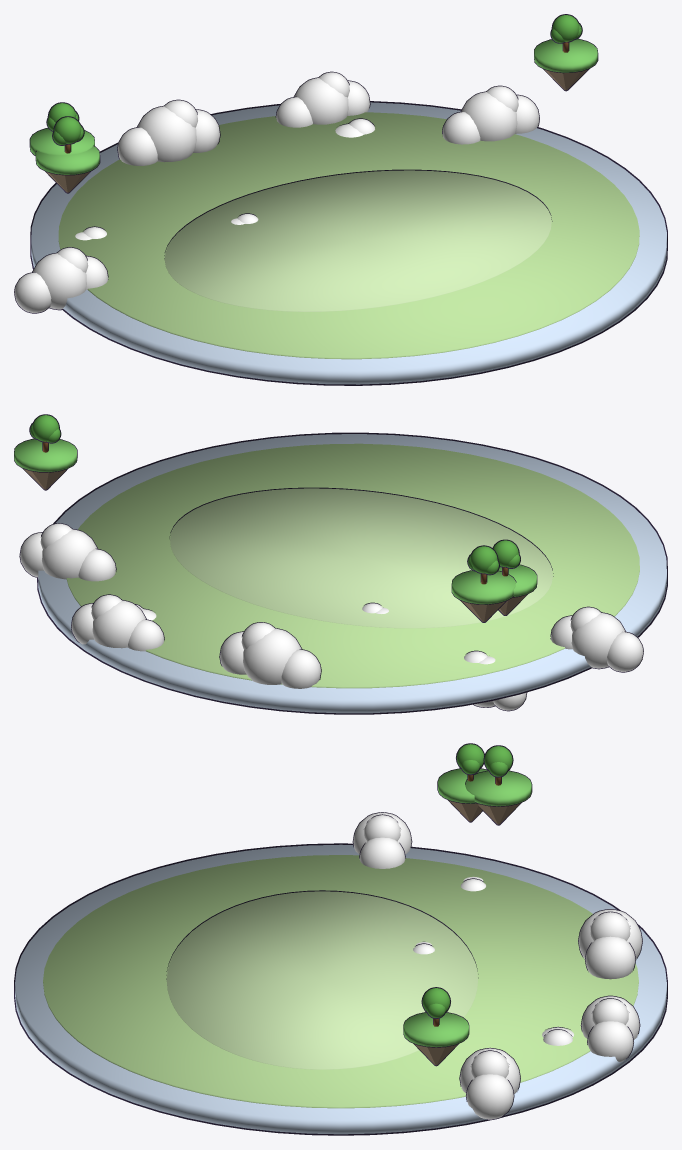
The model's file is sky.glb.
3 renders of one model, top to bottom at view 1: azimuth 30°, elevation 25°; view 2: azimuth 150°, elevation 25°; view 3: azimuth 270°, elevation 25°, orthographic. The views are drawn at different scales.
Visible parts, largest first — view 1: ground, floor, skirt, cloud.020, cloud.004, cloud.024, grass.002, cloud, grass.001, cloud.021, cloud.025, grass (+9 smaller); view 2: ground, floor, skirt, cloud.020, cloud.024, cloud.004, grass, grass.002, cloud, cloud.021, cloud.025, cloud.005 (+14 smaller); view 3: ground, floor, skirt, grass.002, grass, cloud.022, cloud.006, cloud.002, cloud.026, cloud.020, grass.001, cloud.023 (+6 smaller).
Boxes of the visible parts, x1,y1,x2,y2 form: ground: (58, 112, 639, 359); floor: (164, 169, 552, 311); skirt: (30, 101, 667, 385); cloud.020: (137, 105, 196, 162); cloud.004: (460, 91, 517, 141); cloud.024: (32, 252, 86, 310); grass.002: (534, 38, 598, 73); cloud: (293, 77, 348, 124); grass.001: (35, 145, 100, 175); cloud.021: (117, 127, 157, 165); cloud.025: (14, 272, 51, 313); grass: (29, 127, 94, 155); ground: (66, 443, 639, 688); floor: (169, 487, 553, 628); skirt: (37, 432, 667, 714); cloud.020: (243, 628, 301, 684); cloud.024: (571, 612, 625, 669); cloud.004: (42, 528, 97, 579); grass: (451, 570, 516, 604); grass.002: (14, 438, 77, 472); cloud: (92, 599, 146, 648); cloud.021: (281, 649, 321, 688); cloud.025: (607, 631, 643, 672); cloud.005: (78, 548, 116, 581); ground: (43, 855, 638, 1108); floor: (166, 890, 478, 1069); skirt: (14, 843, 667, 1135); grass.002: (403, 1012, 469, 1047); grass: (465, 770, 532, 806); cloud.022: (584, 936, 635, 979); cloud.006: (466, 1074, 514, 1120); cloud.002: (587, 1021, 633, 1061); cloud.026: (359, 837, 405, 868); cloud.020: (578, 909, 642, 959); grass.001: (437, 768, 487, 803); cloud.023: (590, 911, 630, 940).
Bounding box in the file's own units: 23.01 × 6.28 × 21.07.
